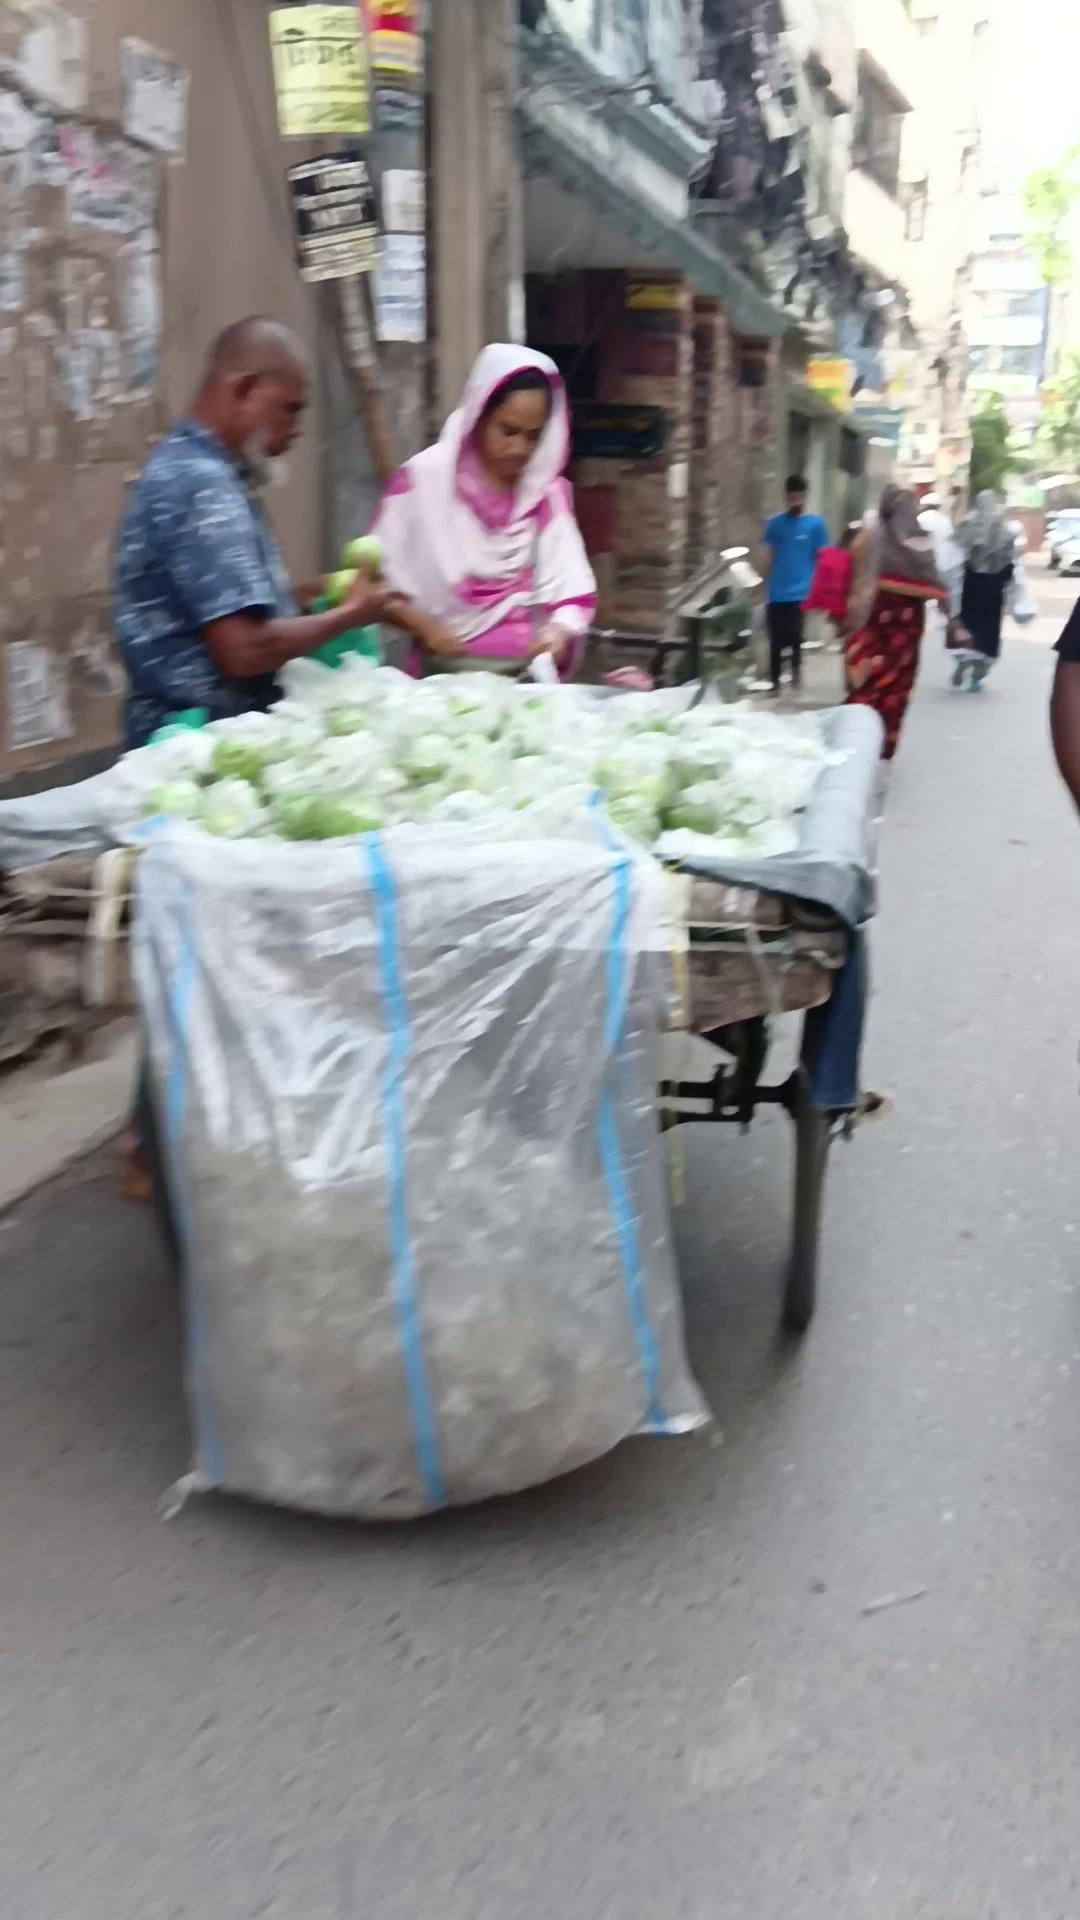Crosswalk: (0, 1011, 142, 1215)
Motorcycle: (95, 669, 887, 1524)
Muddy road: (108, 313, 464, 1201), (365, 340, 599, 684), (841, 483, 949, 762), (749, 473, 829, 691), (945, 488, 1022, 692), (1047, 595, 1079, 814)
Pothole: (649, 845, 889, 1335), (942, 612, 996, 692)
